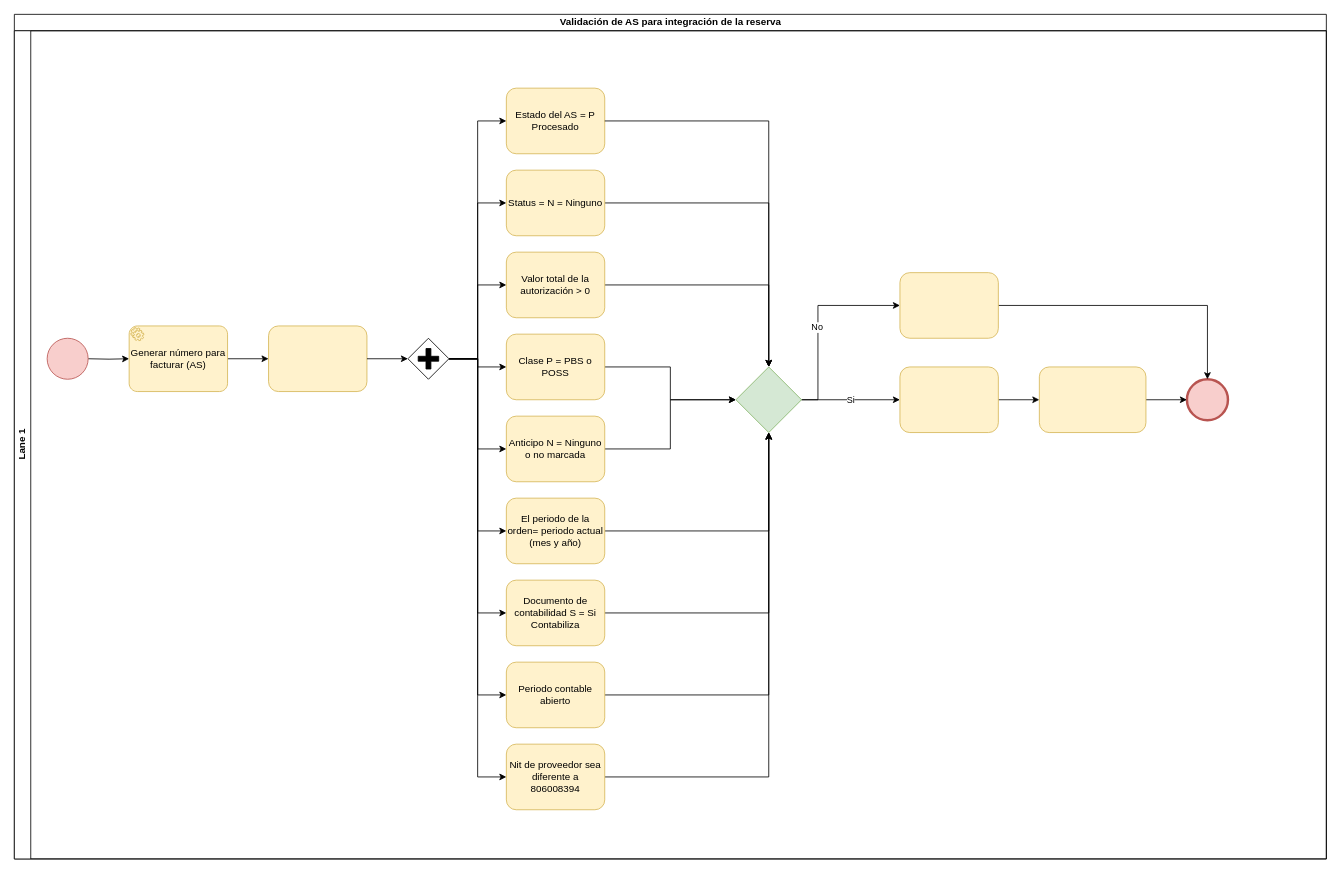
The diagram is 1341 pixels wide and 873 high, and some of its shapes have lost their labels. Each missing label, with the box of its shape:
Cumple todas las condiciones?: (735, 366, 802, 433)
No se integra el valor a EMCP: (899, 272, 998, 338)
Se integra el valor de la reserva en EMCP y SOFSIN: (899, 366, 998, 433)
Se integra para Consulta Externa 96% Hospitalización: 93%: (1039, 366, 1146, 433)
Validar cumplimiento de condiciones del AS: (268, 325, 367, 392)
